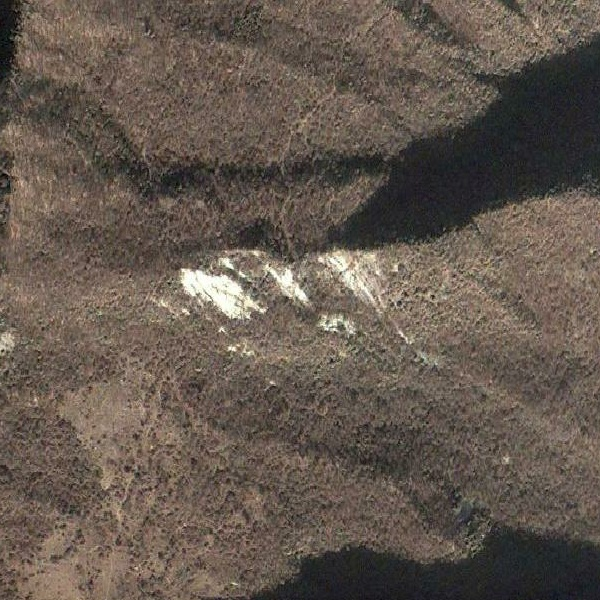slope: (176, 262, 268, 323), (316, 245, 383, 311), (264, 262, 314, 311), (315, 308, 360, 335)
